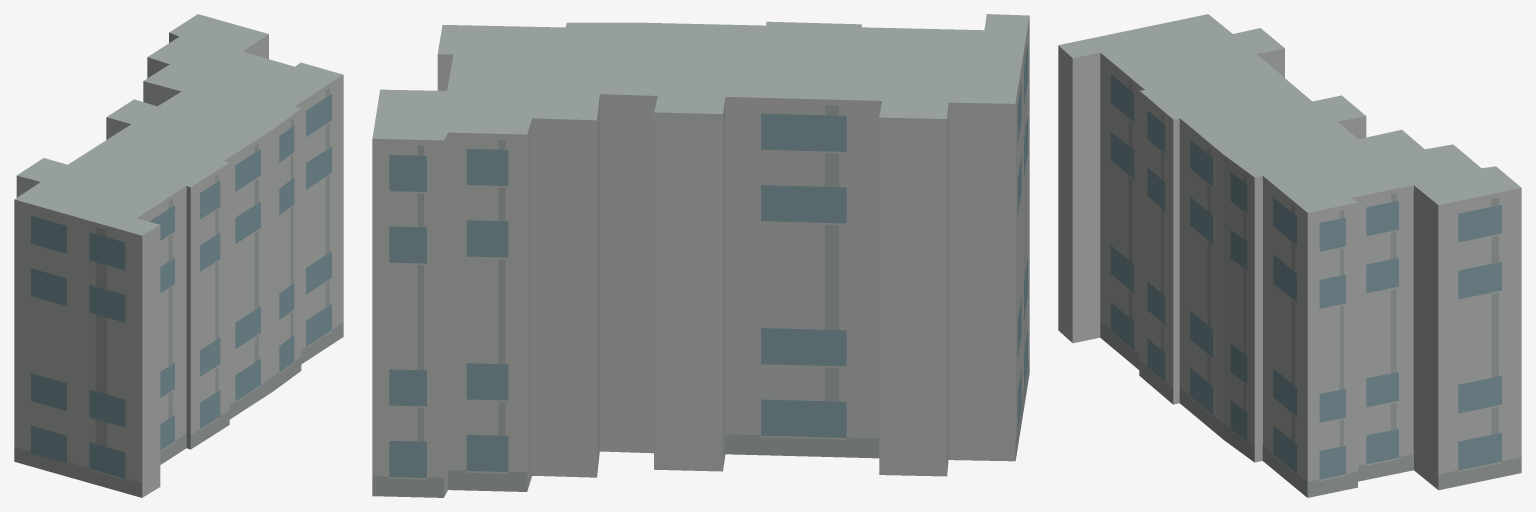
The model's file is survey-upis-32565121.glb.
3 views of the same model, side by side, from view 1: azimuth 30°, elevation 25°; view 2: azimuth 150°, elevation 25°; view 3: azimuth 270°, elevation 25° (orthographic). The views are drawn at different scales.
Parts seen in each view (by area): view 1: survey-upis-32565121.tmp; view 2: survey-upis-32565121.tmp; view 3: survey-upis-32565121.tmp.
Part boxes in pixels (left/top/right/bottom): survey-upis-32565121.tmp: left=14, top=14, right=343, bottom=497; survey-upis-32565121.tmp: left=372, top=14, right=1029, bottom=497; survey-upis-32565121.tmp: left=1058, top=14, right=1521, bottom=497.
Size of the model in its own units: 22.14 by 14.8 by 21.82.
